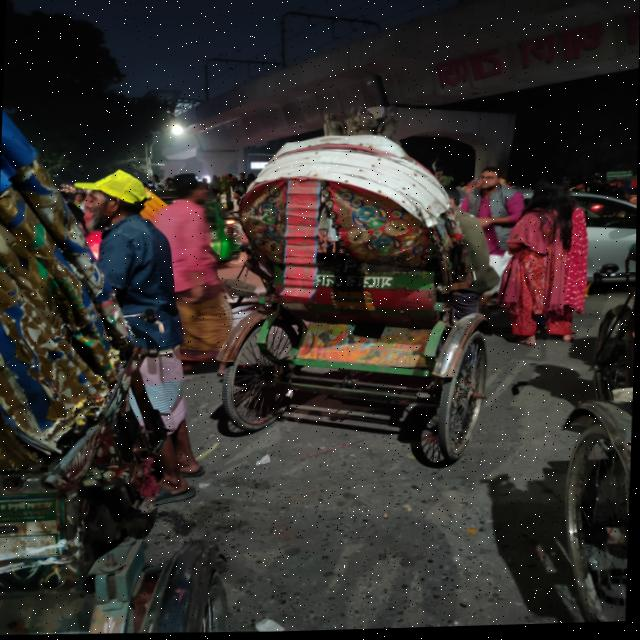rikshaw: (194, 120, 536, 495)
